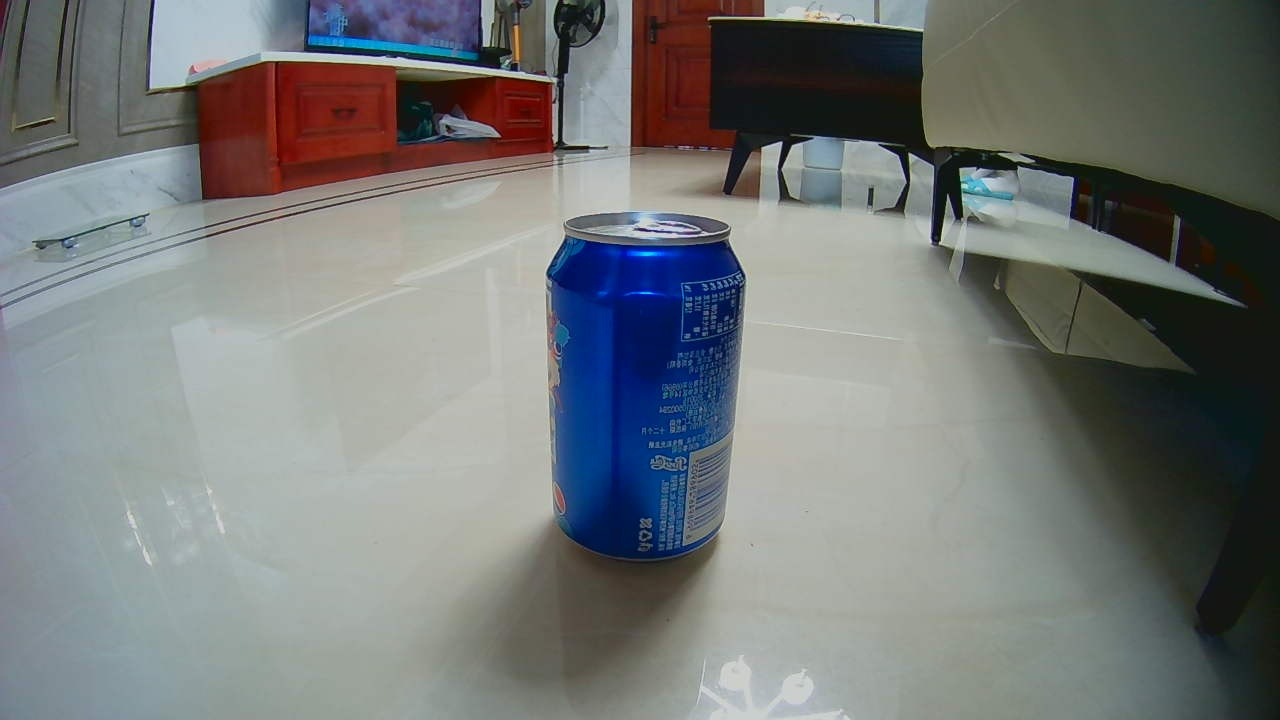pessi: (542, 216, 724, 561)
